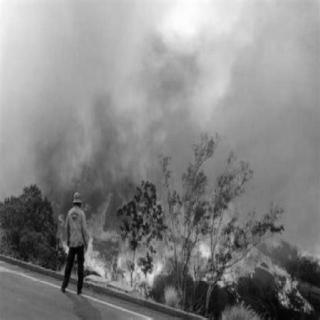Fire: (54, 192, 311, 318)
